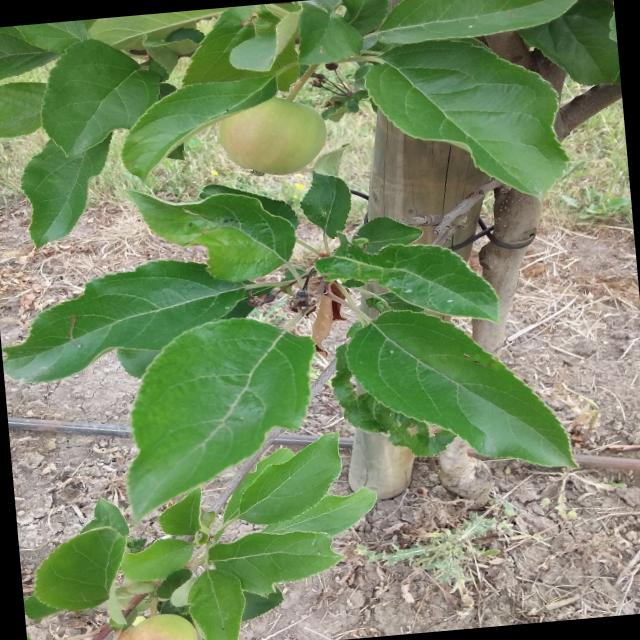-FireBlight-: (308, 285, 360, 346)
